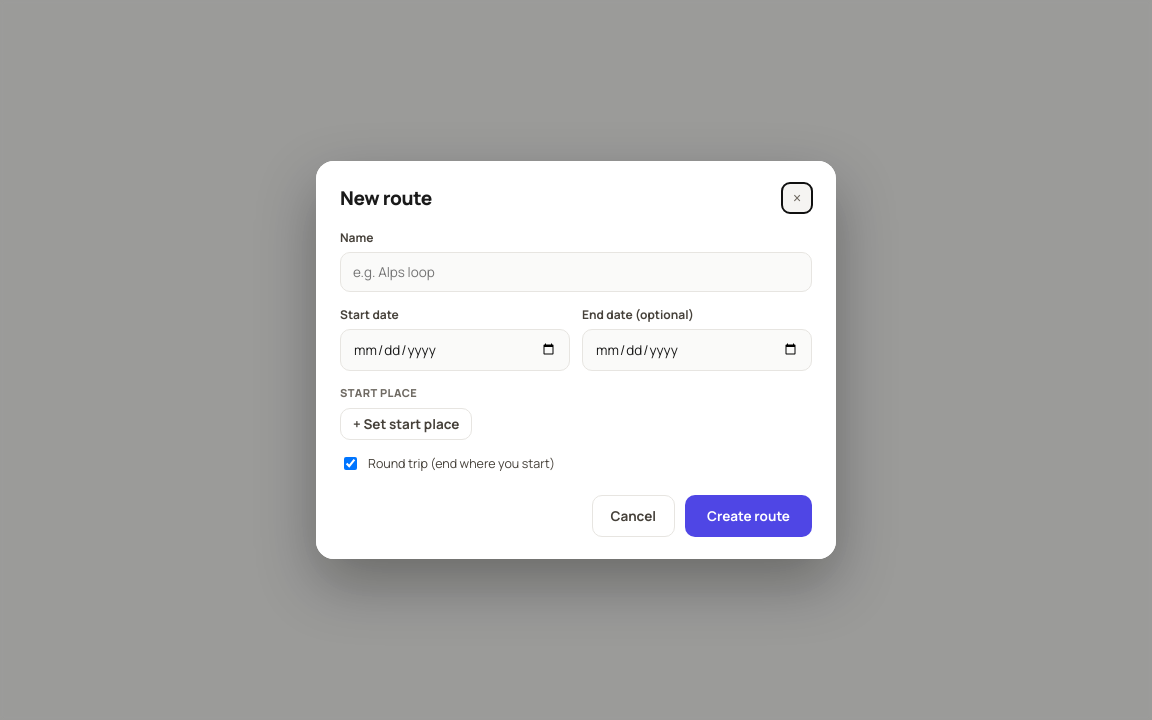
RouteFormModal › create mode still opens the place chooser and creates
The image size is (1152, 720).
Expected: the heading "New route" is shown, [340, 185, 432, 211]
Click the button "+ Set start place": point(406, 424) [340, 408, 472, 440]
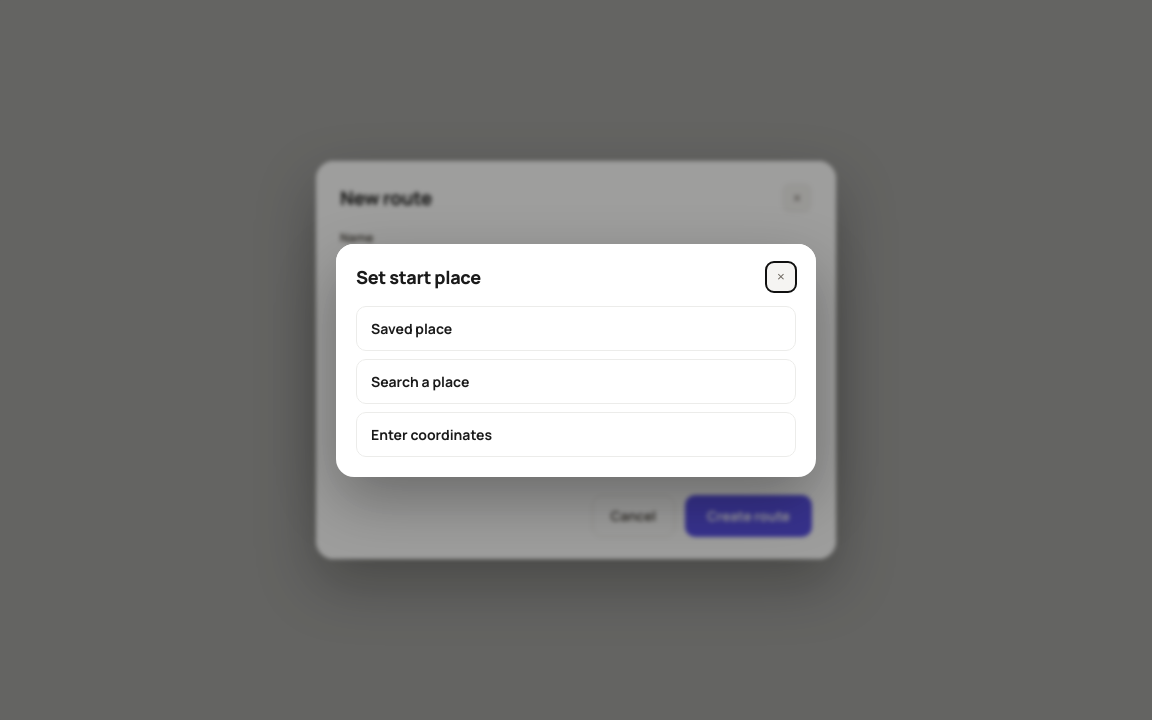
Click the button "Saved place": point(412, 328) [356, 306, 796, 350]
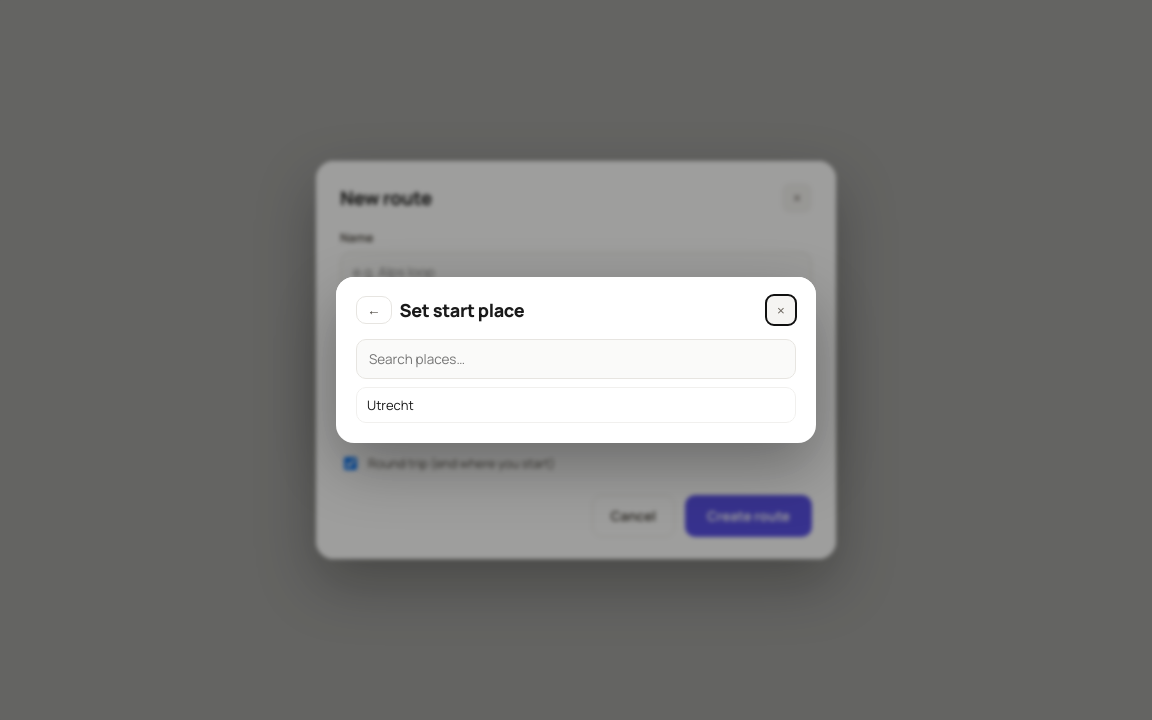
Click the button "Utrecht": point(390, 405) [356, 387, 796, 423]
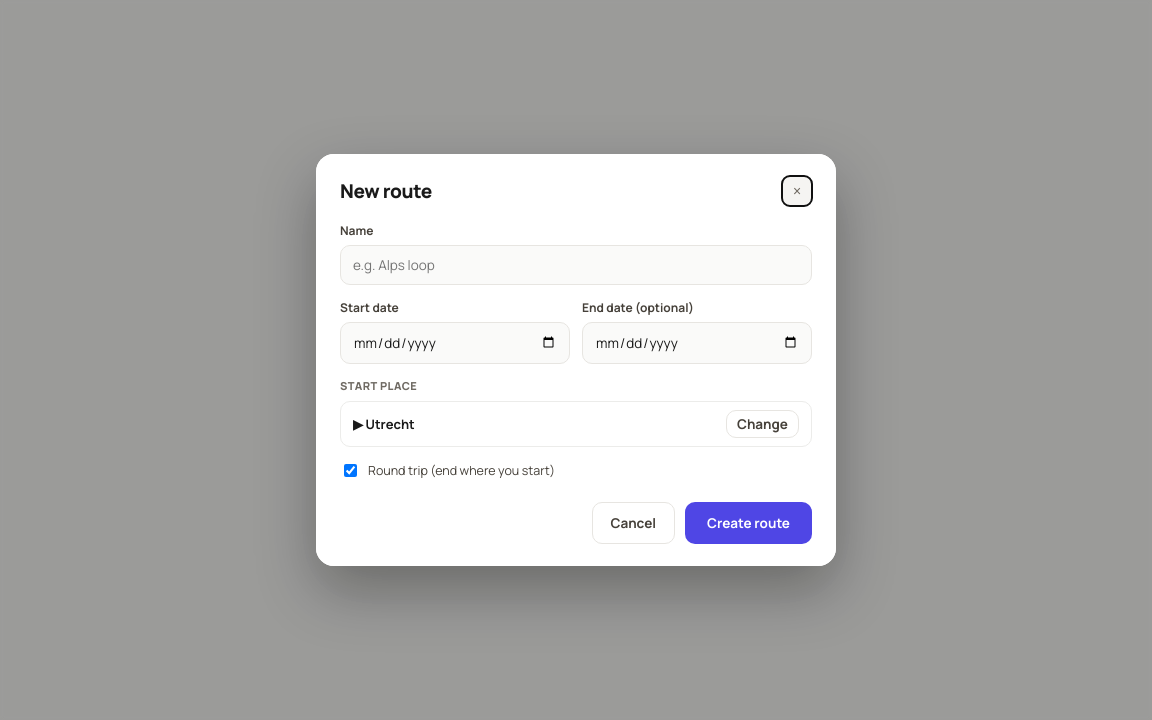
Expected: the text "▶ Utrecht" is shown, [353, 415, 415, 433]
